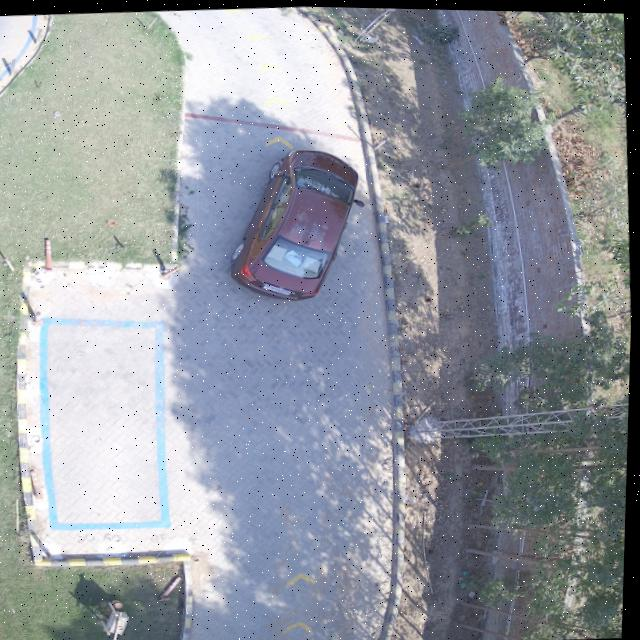car: (229, 148, 362, 302)
